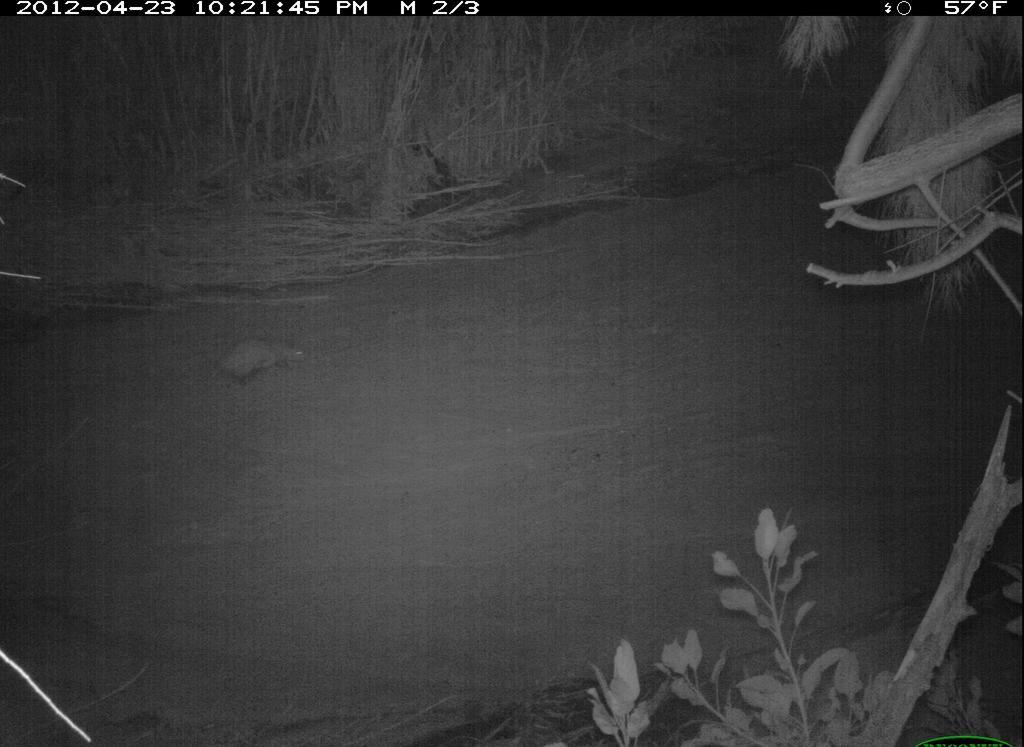opossum: (195, 318, 318, 396)
